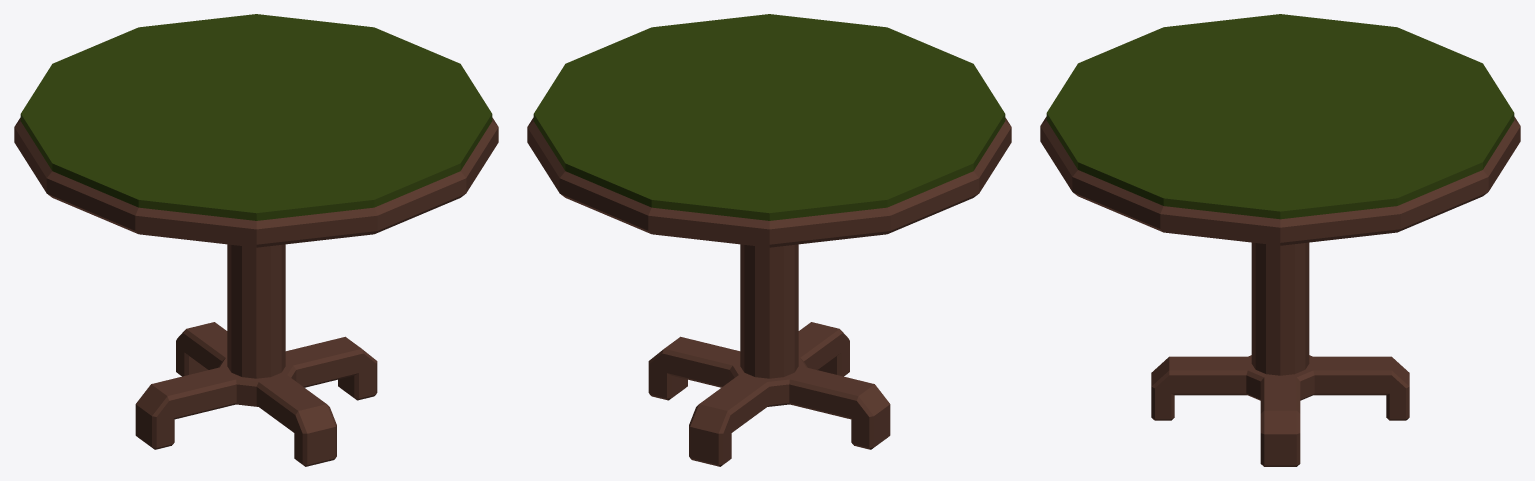
File: Table B-col.glb
3 views of the same model, side by side, from view 1: azimuth 30°, elevation 25°; view 2: azimuth 150°, elevation 25°; view 3: azimuth 270°, elevation 25° (orthographic).
Parts seen in each view (by area): view 1: Table B-col; view 2: Table B-col; view 3: Table B-col.
Boxes of the visible parts, <box> form: Table B-col: <box>14,14,498,466</box>; Table B-col: <box>527,14,1011,466</box>; Table B-col: <box>1040,14,1520,466</box>.
Size of the model in its own units: 1.35 by 0.9355 by 1.35.
